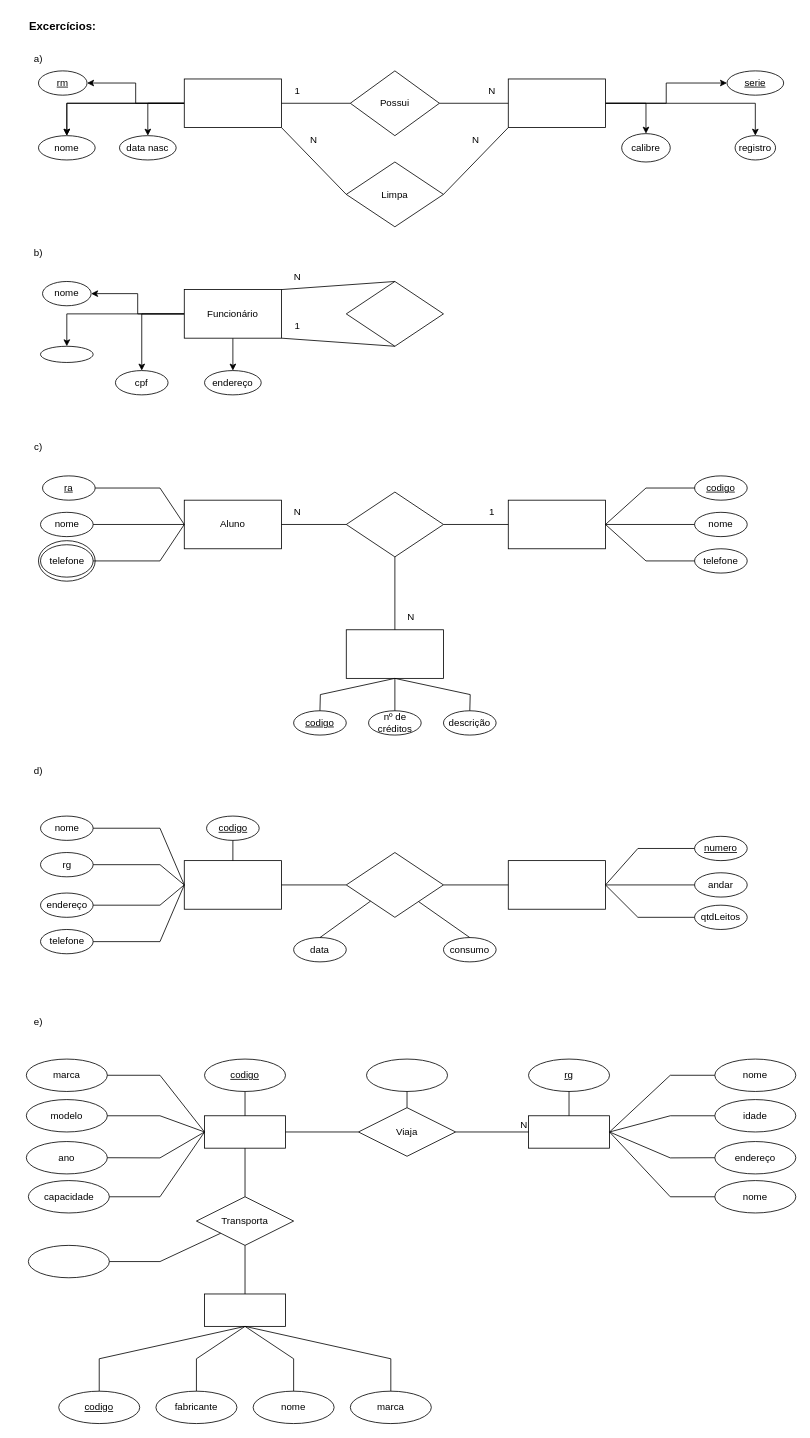
Image size: 810x1438. Some labels were removed from this diagram. Each missing label, with the centre of its shape:
"A-P-D" goes at point (394, 524).
"Arma" goes at point (556, 103).
"Caminhões" goes at point (245, 1131).
"Cliente" goes at point (232, 884).
"cod" goes at point (66, 353).
"data transporte" goes at point (68, 1261).
"data viagem" goes at point (407, 1074).
"Disciplina" goes at point (394, 653).
"Gerencia" goes at point (394, 313).
"hospeda" goes at point (394, 884).
"Motorista" goes at point (569, 1131).
"Produto" goes at point (245, 1309).
"Professor" goes at point (556, 524).
"Quarto" goes at point (556, 884).
"Soldado" goes at point (232, 103).
